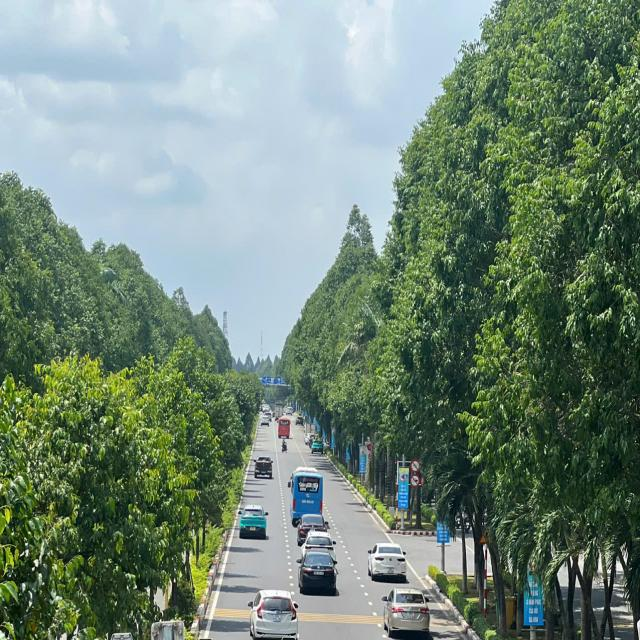Bus: (279, 418, 290, 438)
Truck: (305, 423, 315, 442), (275, 406, 283, 418)
car: (251, 587, 299, 640), (386, 584, 433, 638), (366, 540, 408, 580), (299, 554, 339, 590), (301, 530, 337, 556), (243, 502, 267, 540), (294, 517, 335, 535), (257, 456, 274, 479), (312, 440, 322, 456), (306, 433, 315, 443), (261, 416, 269, 427), (265, 412, 272, 421), (286, 406, 292, 416), (296, 417, 302, 426)
motobyte: (282, 438, 288, 454), (308, 436, 312, 450)
